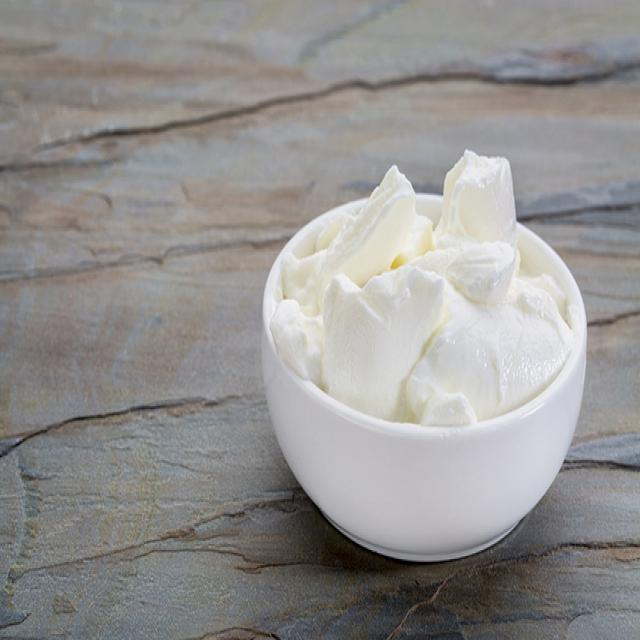Yogurt cup: (272, 157, 571, 435)
